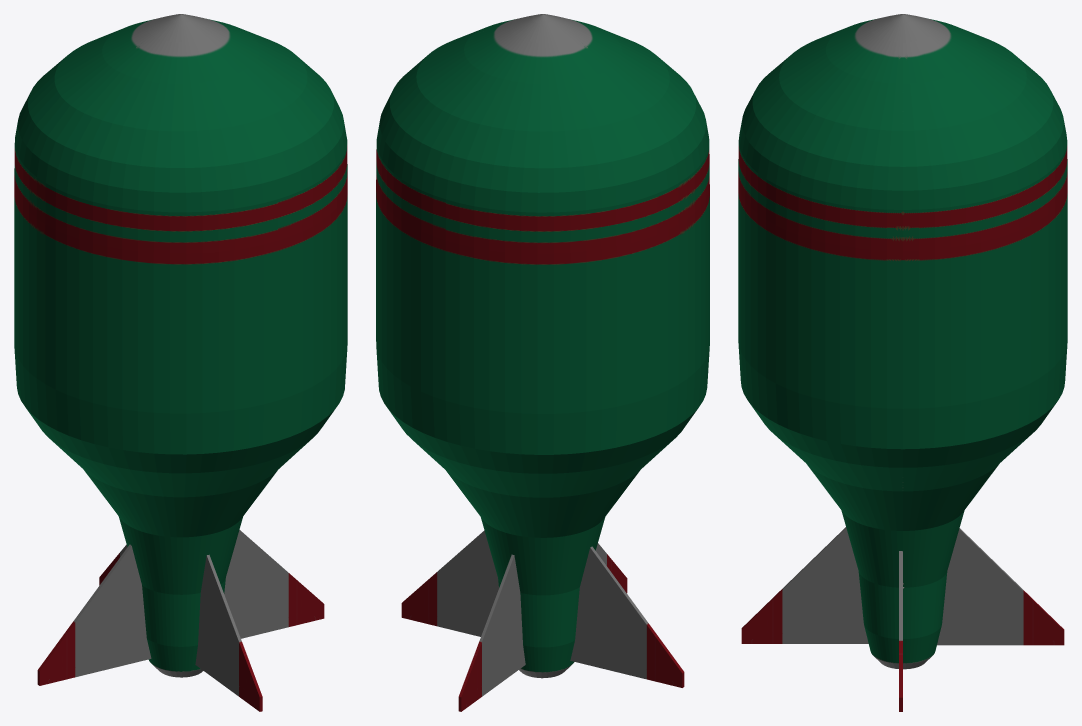
Rendered from GiantBom.fbx.
3 views of the same model, side by side, from view 1: azimuth 30°, elevation 25°; view 2: azimuth 150°, elevation 25°; view 3: azimuth 270°, elevation 25° (orthographic).
Parts seen in each view (by area): view 1: Body, Wing; view 2: Body, Wing; view 3: Body, Wing.
Part boxes in pixels (x1,y1,x2,y2): Body: (14,14,347,677); Wing: (37,530,324,711); Body: (376,14,709,678); Wing: (401,530,684,711); Body: (738,14,1067,669); Wing: (741,527,1064,711).
Size of the model in its own units: 1.99 by 1.99 by 4.31.
Materials: 1 (1 with a texture image).
